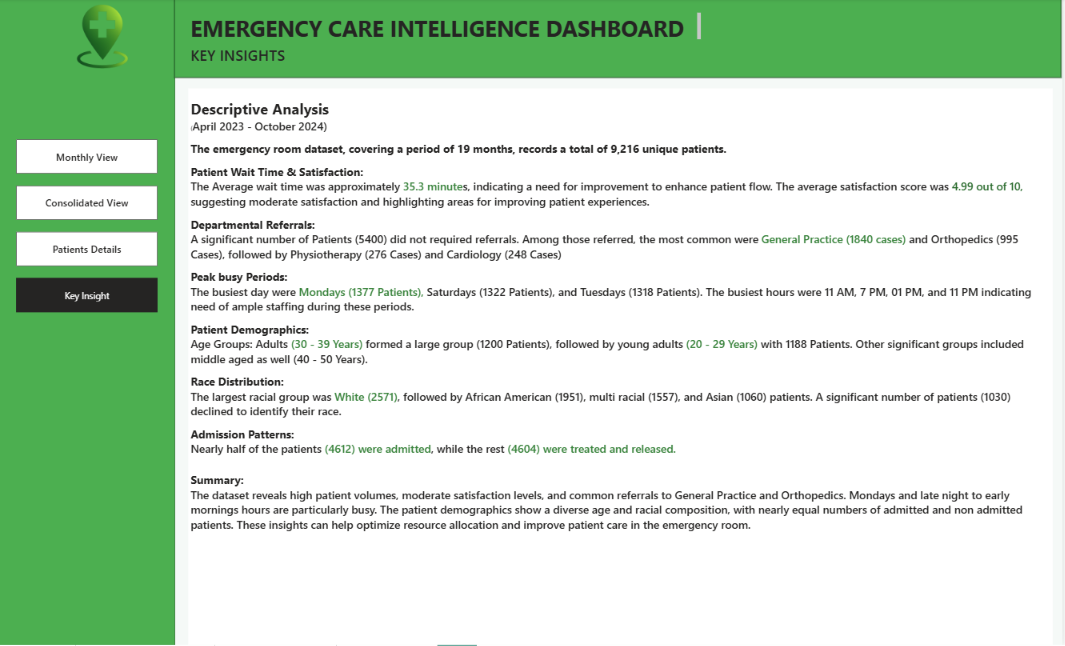

The dashboard page shown, as its layout file describes it:
{"tool":"powerbi","page":{"name":"Key Insight","canvas":[2300,1400],"ordinal":3},"visuals":[{"type":"shape","box":[0,0,380.5,1400],"z":0},{"type":"shape","box":[379.3,0,1920.6,171.8],"z":1000},{"type":"textbox","box":[408.3,25,1114.6,70.8],"z":2000},{"type":"textbox","box":[408.3,95.8,335.4,66.7],"z":3000},{"type":"image","box":[66.7,0,312.5,170.8],"z":4000},{"type":"textbox","box":[408.3,195.8,1870.8,1204.2],"z":5000},{"type":"pageNavigator","box":[37.5,304.2,306.2,377.1],"z":6000}]}

Visuals, with their boxes on the page's 2300x1400 design canvas (x1, y1, x2, y2). These are canvas units, not pixel positions in the 1065x646 screenshot, which may show the page scaled, cropped or inside an application window:
shape: left=0, top=0, right=380, bottom=1400
shape: left=379, top=0, right=2300, bottom=172
textbox: left=408, top=25, right=1523, bottom=96
textbox: left=408, top=96, right=744, bottom=162
image: left=67, top=0, right=379, bottom=171
textbox: left=408, top=196, right=2279, bottom=1400
pageNavigator: left=38, top=304, right=344, bottom=681
